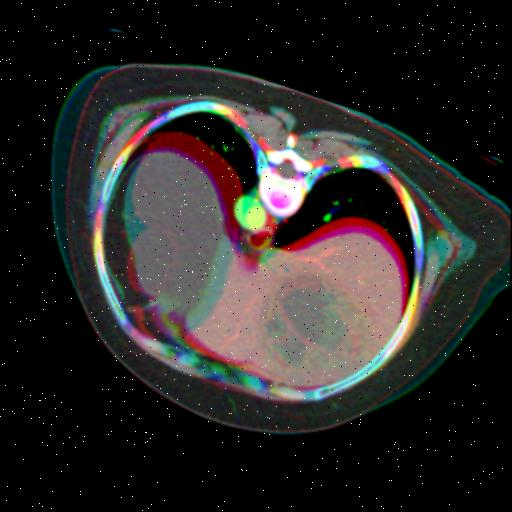Abscess: (266, 267, 356, 364)
